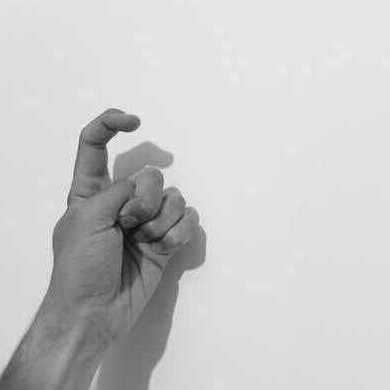X: (53, 108, 195, 345)
